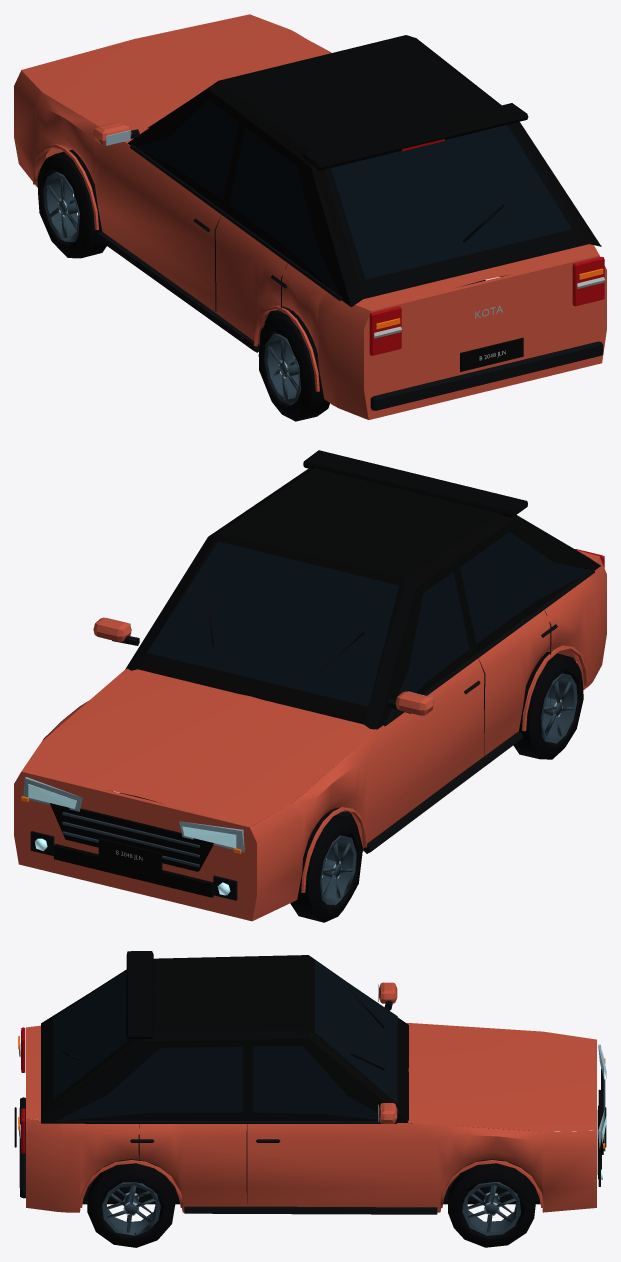
File: city_hatchback_coral_lod1.glb
The picture shows the model from 3 angles, top to bottom: view 1: azimuth 30°, elevation 25°; view 2: azimuth 150°, elevation 25°; view 3: azimuth 270°, elevation 25°; orthographic projection. The views are drawn at different scales.
Visible parts, largest first — view 1: Body_Mesh, Wheel_RL_Mesh, Wheel_FL_Mesh, TailLights_Mesh; view 2: Body_Mesh, Wheel_FL_Mesh, Wheel_RL_Mesh, Headlights_Mesh; view 3: Body_Mesh, Wheel_FR_Mesh, Wheel_RR_Mesh, TailLights_Mesh.
Boxes of the visible parts, x1,y1,x2,y2 form: Body_Mesh: (14,14,606,419); Wheel_RL_Mesh: (258,311,329,421); Wheel_FL_Mesh: (37,149,106,258); TailLights_Mesh: (369,139,604,355); Body_Mesh: (14,450,606,921); Wheel_FL_Mesh: (290,813,362,922); Wheel_RL_Mesh: (513,652,583,759); Headlights_Mesh: (23,777,244,895); Body_Mesh: (14,951,606,1214); Wheel_FR_Mesh: (448,1163,535,1247); Wheel_RR_Mesh: (87,1160,175,1247); TailLights_Mesh: (19,1027,25,1153).
Bounding box in the file's own units: 2.11 × 1.49 × 3.96.
Materials: 2 (1 with a texture image).
